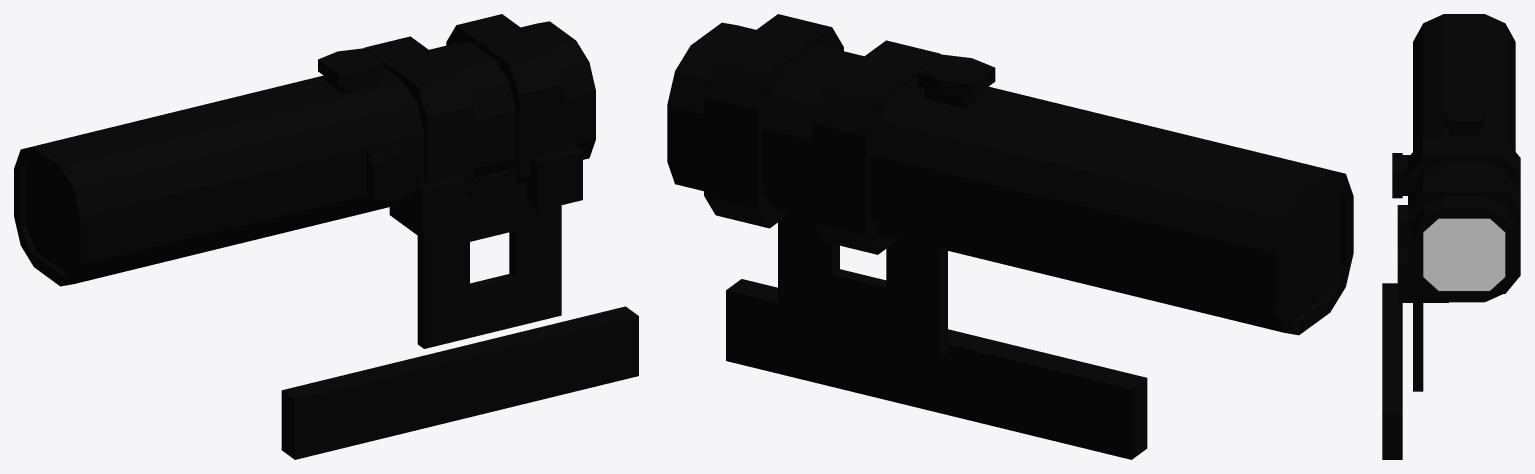
3 views of the same model, side by side, from view 1: azimuth 30°, elevation 25°; view 2: azimuth 150°, elevation 25°; view 3: azimuth 270°, elevation 25° (orthographic). The views are drawn at different scales.
Parts seen in each view (by area): view 1: scope9, scope1, scope8, scope2, scope3, scope31, scope24, scopeOverlay, scope6, scope34, scope33, scope5 (+8 smaller); view 2: scope10, scope1, scope8, scope32, scope25, scope2, scopeOverlay, scope3, scope33, scope27, scope4, scope30 (+3 smaller); view 3: scope8, scope11, scope1, scope27, scope33, scope9, scope10, scope34, scope3, scope32, scope31, scope35 (+8 smaller).
Boxes of the visible parts, box(x1,y1,x2,y2) form: scope9: box(73, 62, 595, 283); scope1: box(281, 306, 638, 459); scope8: box(21, 21, 588, 187); scope2: box(417, 196, 469, 348); scope3: box(509, 182, 561, 326); scope31: box(509, 53, 564, 184); scope24: box(417, 75, 473, 195); scopeOverlay: box(26, 159, 73, 273); scope6: box(389, 175, 468, 238); scope34: box(527, 145, 582, 210); scope33: box(456, 14, 554, 81); scope5: box(470, 168, 515, 241); scope10: box(667, 71, 1283, 332); scope1: box(726, 279, 1147, 459); scope8: box(675, 22, 1345, 219); scope32: box(704, 60, 769, 228); scope25: box(812, 86, 877, 254); scope2: box(886, 239, 947, 357); scopeOverlay: box(1283, 184, 1339, 319); scope3: box(778, 212, 839, 331); scope33: box(716, 14, 831, 227); scope27: box(824, 40, 940, 254); scope4: box(832, 269, 886, 344); scope30: box(940, 58, 995, 98); scope8: box(1423, 14, 1505, 218); scope11: box(1423, 218, 1505, 290); scope1: box(1382, 283, 1402, 459); scope27: box(1423, 139, 1505, 170); scope33: box(1423, 174, 1505, 293); scope9: box(1413, 23, 1423, 292); scope10: box(1505, 23, 1515, 292); scope34: box(1397, 248, 1448, 302); scope3: box(1413, 303, 1423, 391); scope32: box(1505, 174, 1520, 293); scope31: box(1408, 174, 1423, 261); scope35: box(1443, 112, 1484, 130).
Bounding box in the file's own units: 4.7 × 2.78 × 1.35.
